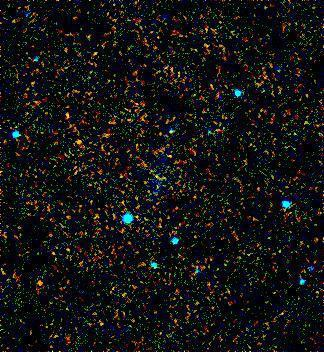star: (31, 270, 61, 300)
